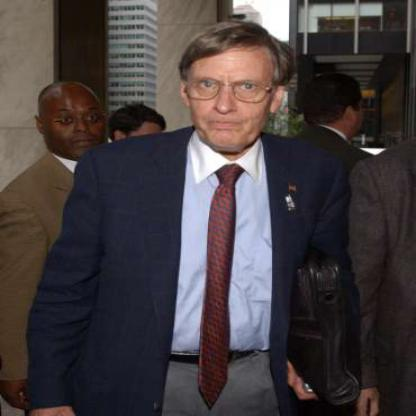face: (188, 26, 276, 154), (42, 83, 108, 163)
